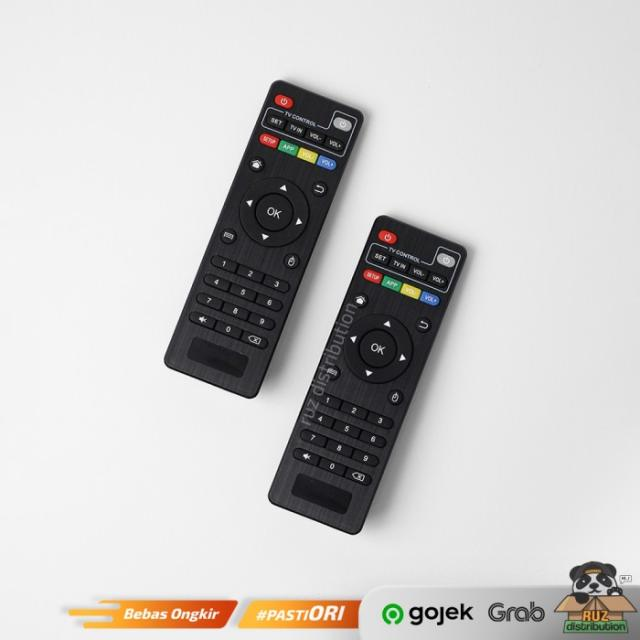remote: (263, 210, 474, 538), (161, 71, 366, 402)
